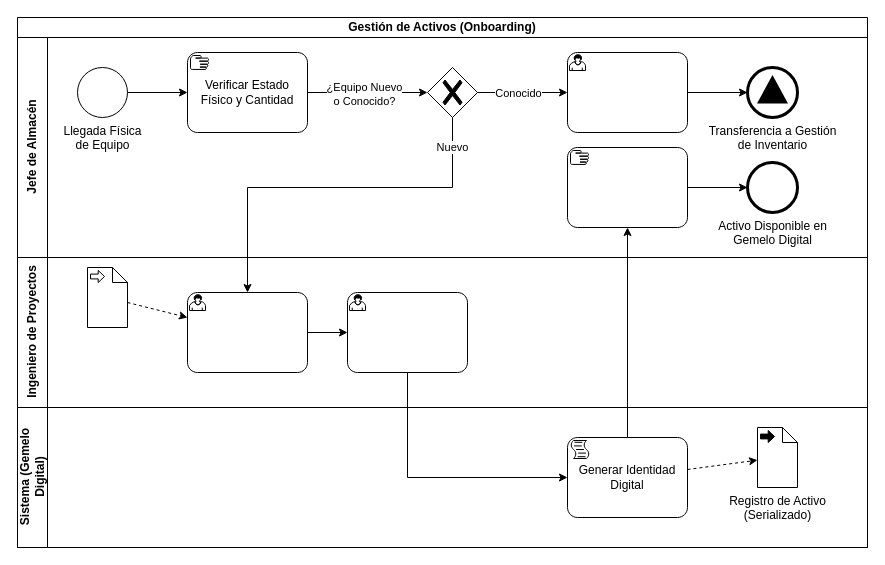
Image size: 885x565. Some labels were removed from this diagram. The centre of each missing label's shape, as x and y in pixels:
Aumentar Stock (MRO): (x=627, y=92)
Configurar Taxonomía ISO 14224: (x=247, y=332)
Definir Jerarquía y Ubicación: (x=407, y=332)
Etiquetar y Almacenar/Instalar: (x=627, y=187)
Maestro de Producto: (x=107, y=297)
